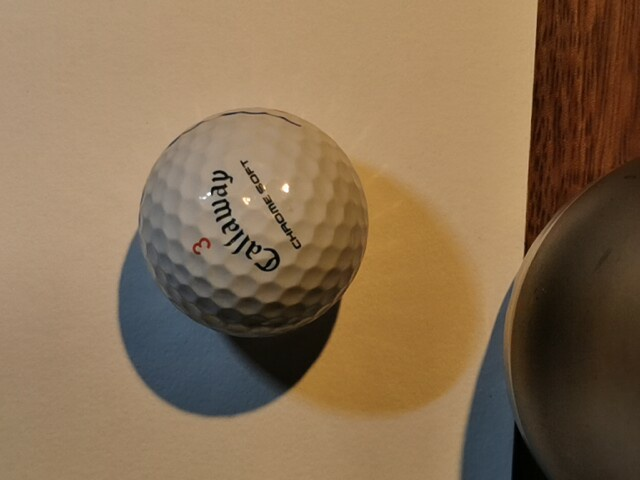Ball: (139, 107, 369, 338)
Callaway: (210, 170, 281, 272)
